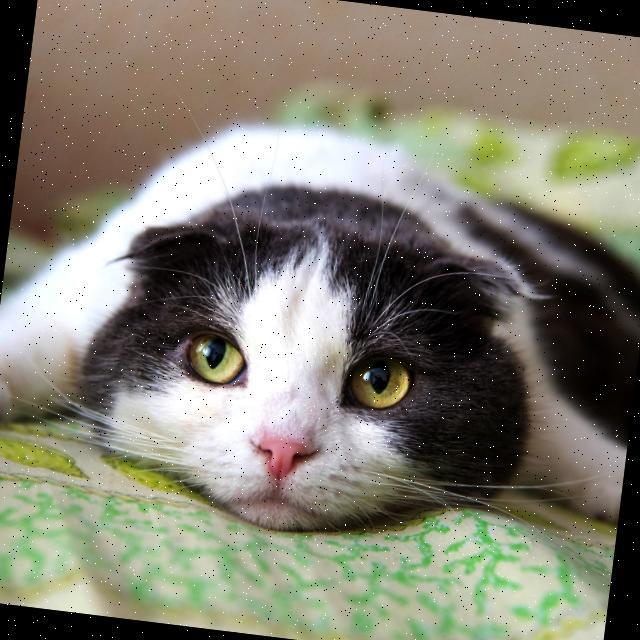Sad: (132, 267, 462, 548)
